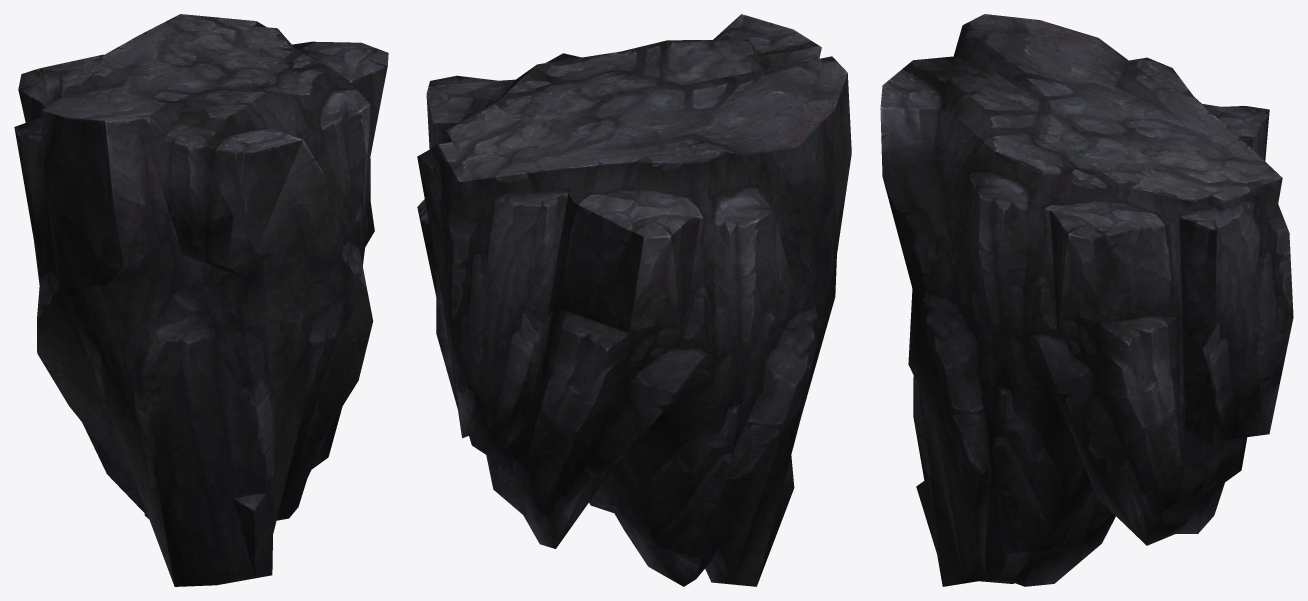
File: ruisi_shanti05.FBX
3 views of the same model, side by side, from view 1: azimuth 30°, elevation 25°; view 2: azimuth 150°, elevation 25°; view 3: azimuth 270°, elevation 25° (orthographic). The views are drawn at different scales.
Visible parts, largest first — view 1: ruisi_shanti05; view 2: ruisi_shanti05; view 3: ruisi_shanti05.
Part boxes in pixels (bbox=[...]): ruisi_shanti05: bbox=[14, 14, 388, 586]; ruisi_shanti05: bbox=[417, 14, 851, 586]; ruisi_shanti05: bbox=[880, 14, 1293, 586].
Bounding box in the file's own units: 151 × 197 × 143.
